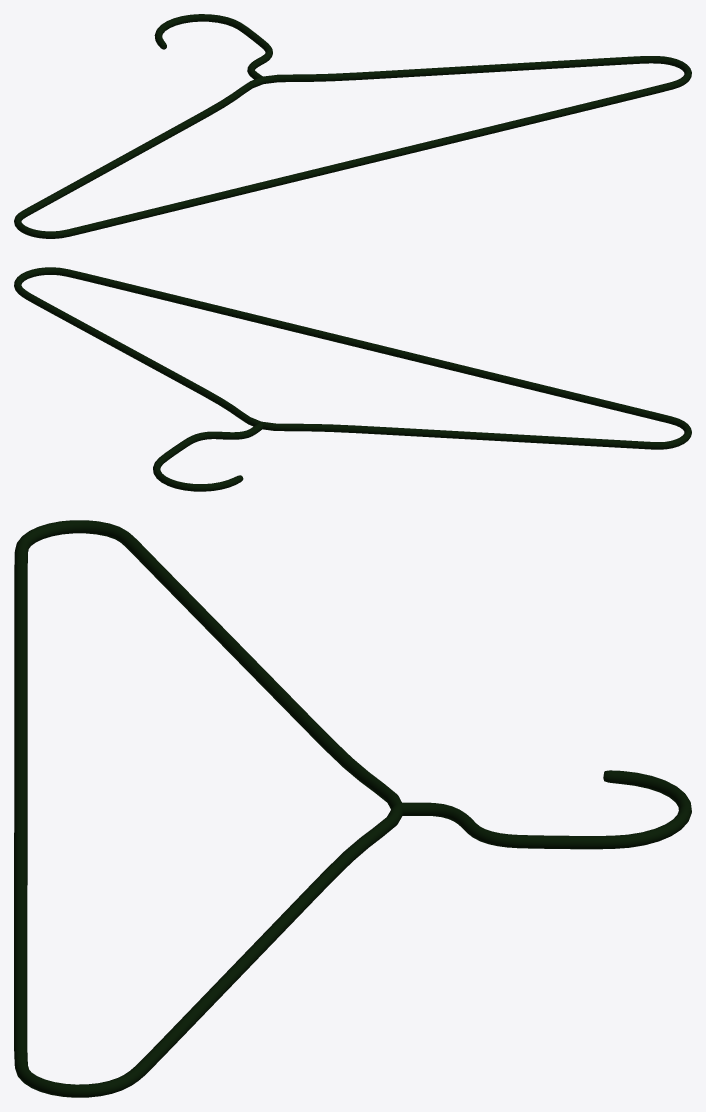
Rendered from clothHanger.fbx.
The picture shows the model from 3 angles, top to bottom: view 1: azimuth 30°, elevation 25°; view 2: azimuth 150°, elevation 25°; view 3: azimuth 270°, elevation 25°; orthographic projection. The views are drawn at different scales.
Parts seen in each view (by area): view 1: Circle.003; view 2: Circle.003; view 3: Circle.003.
Part boxes in pixels (x1,y1,x2,y2): Circle.003: (14, 14, 691, 238); Circle.003: (14, 267, 691, 491); Circle.003: (14, 520, 691, 1097).
Bounding box in the file's own units: 41.32 × 0.4102 × 20.77.
